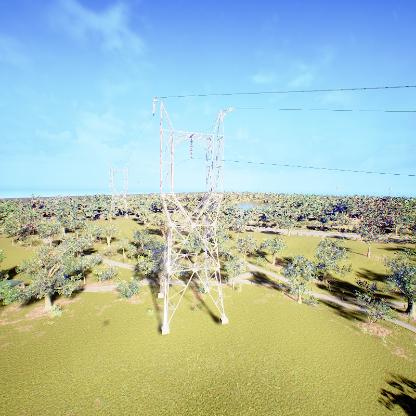tower: (147, 96, 235, 337)
